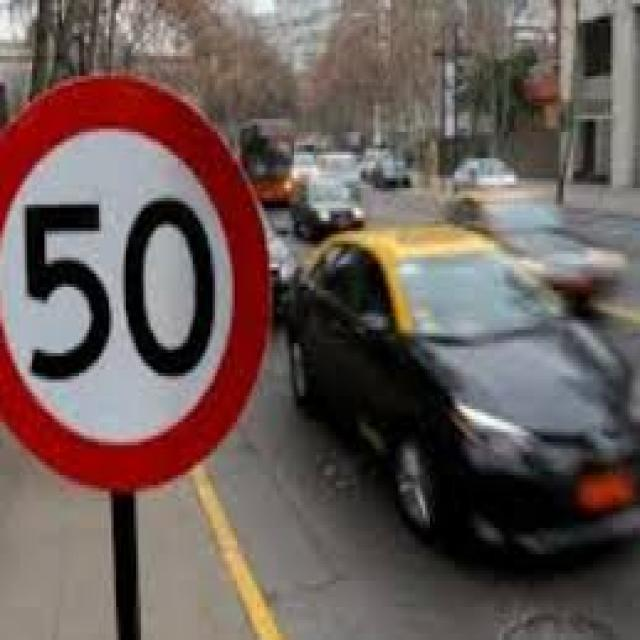Speed limit 50: (1, 67, 275, 496)
